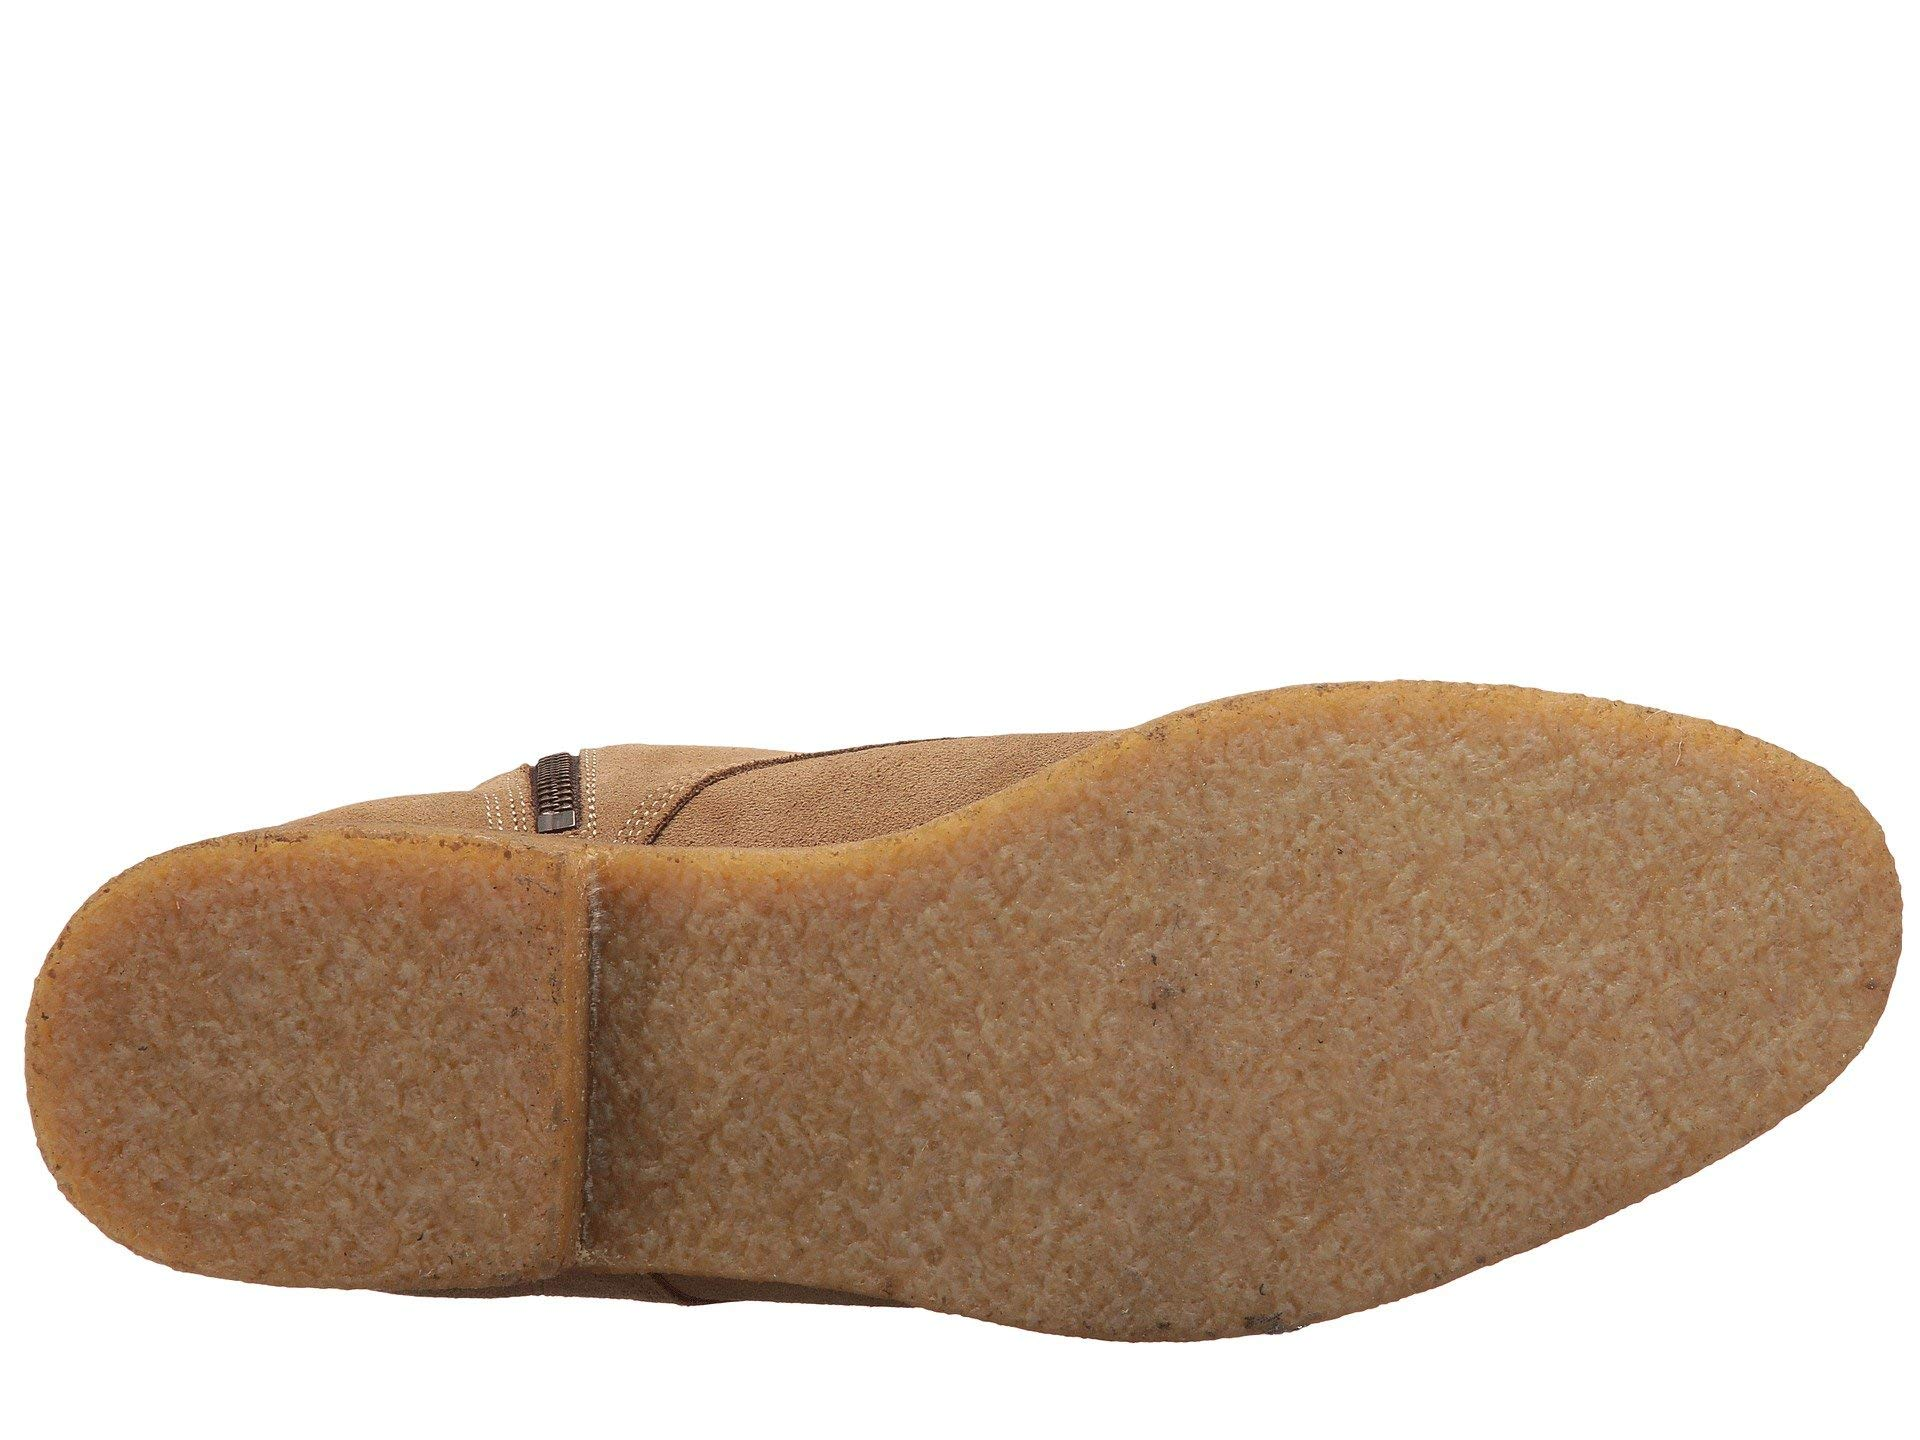other: (1076, 794, 1489, 1234)
